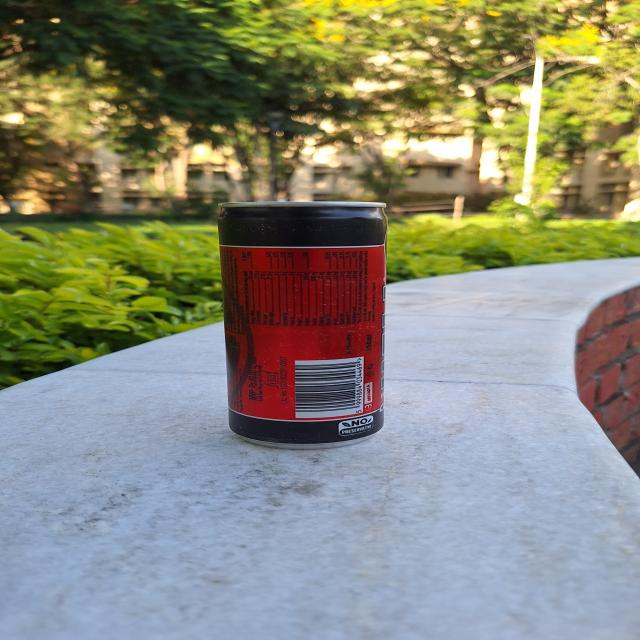Hell Classic: (209, 195, 390, 447)
